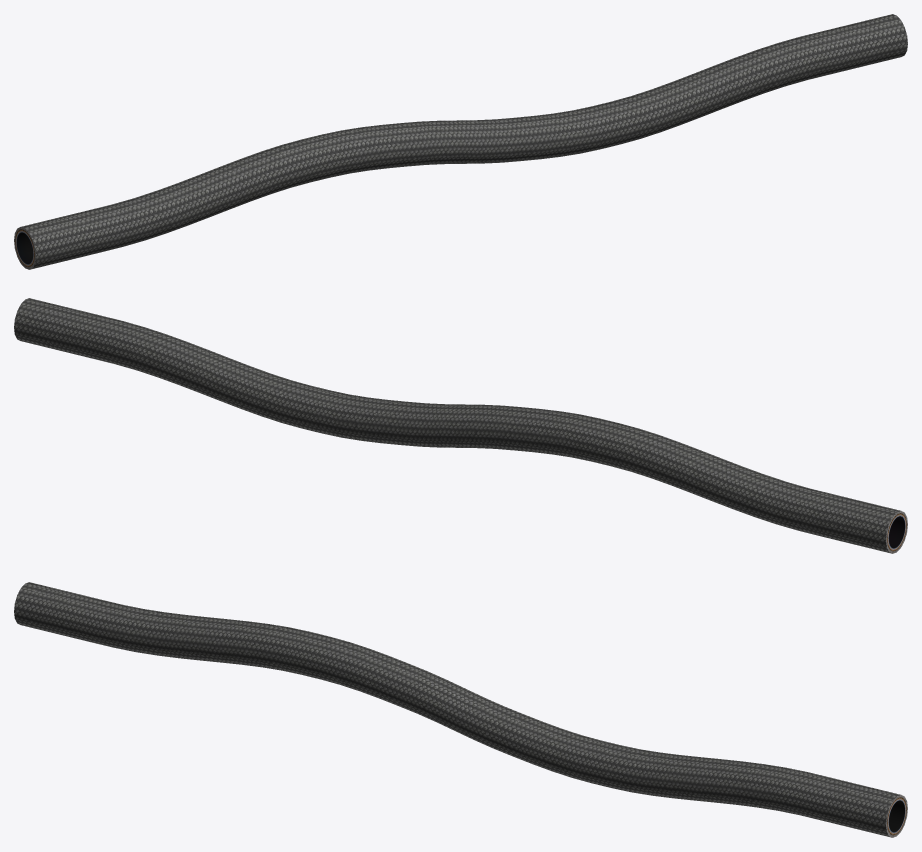
3 renders of one model, top to bottom at view 1: azimuth 30°, elevation 25°; view 2: azimuth 150°, elevation 25°; view 3: azimuth 330°, elevation 25°, orthographic.
Visible parts, largest first — view 1: ProBlack_SB_Aramid-06; view 2: ProBlack_SB_Aramid-06; view 3: ProBlack_SB_Aramid-06.
Boxes of the visible parts, left/top/right/bottom form: ProBlack_SB_Aramid-06: left=14, top=14, right=907, bottom=269; ProBlack_SB_Aramid-06: left=14, top=298, right=907, bottom=553; ProBlack_SB_Aramid-06: left=14, top=582, right=907, bottom=837.
Size of the model in its own units: 0.3074 by 0.0262 by 0.0135.
2 materials, 2 textured.
